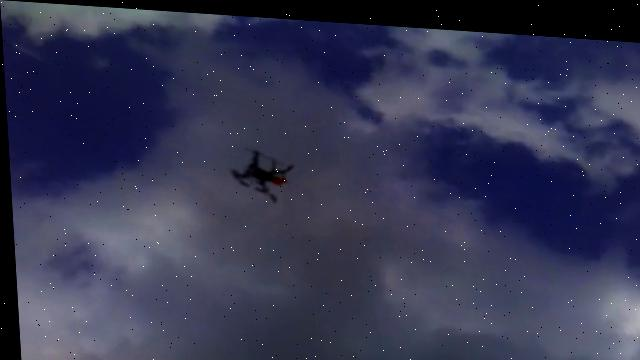drone: (226, 146, 297, 205)
